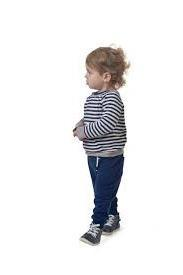Human: (65, 39, 156, 248)
